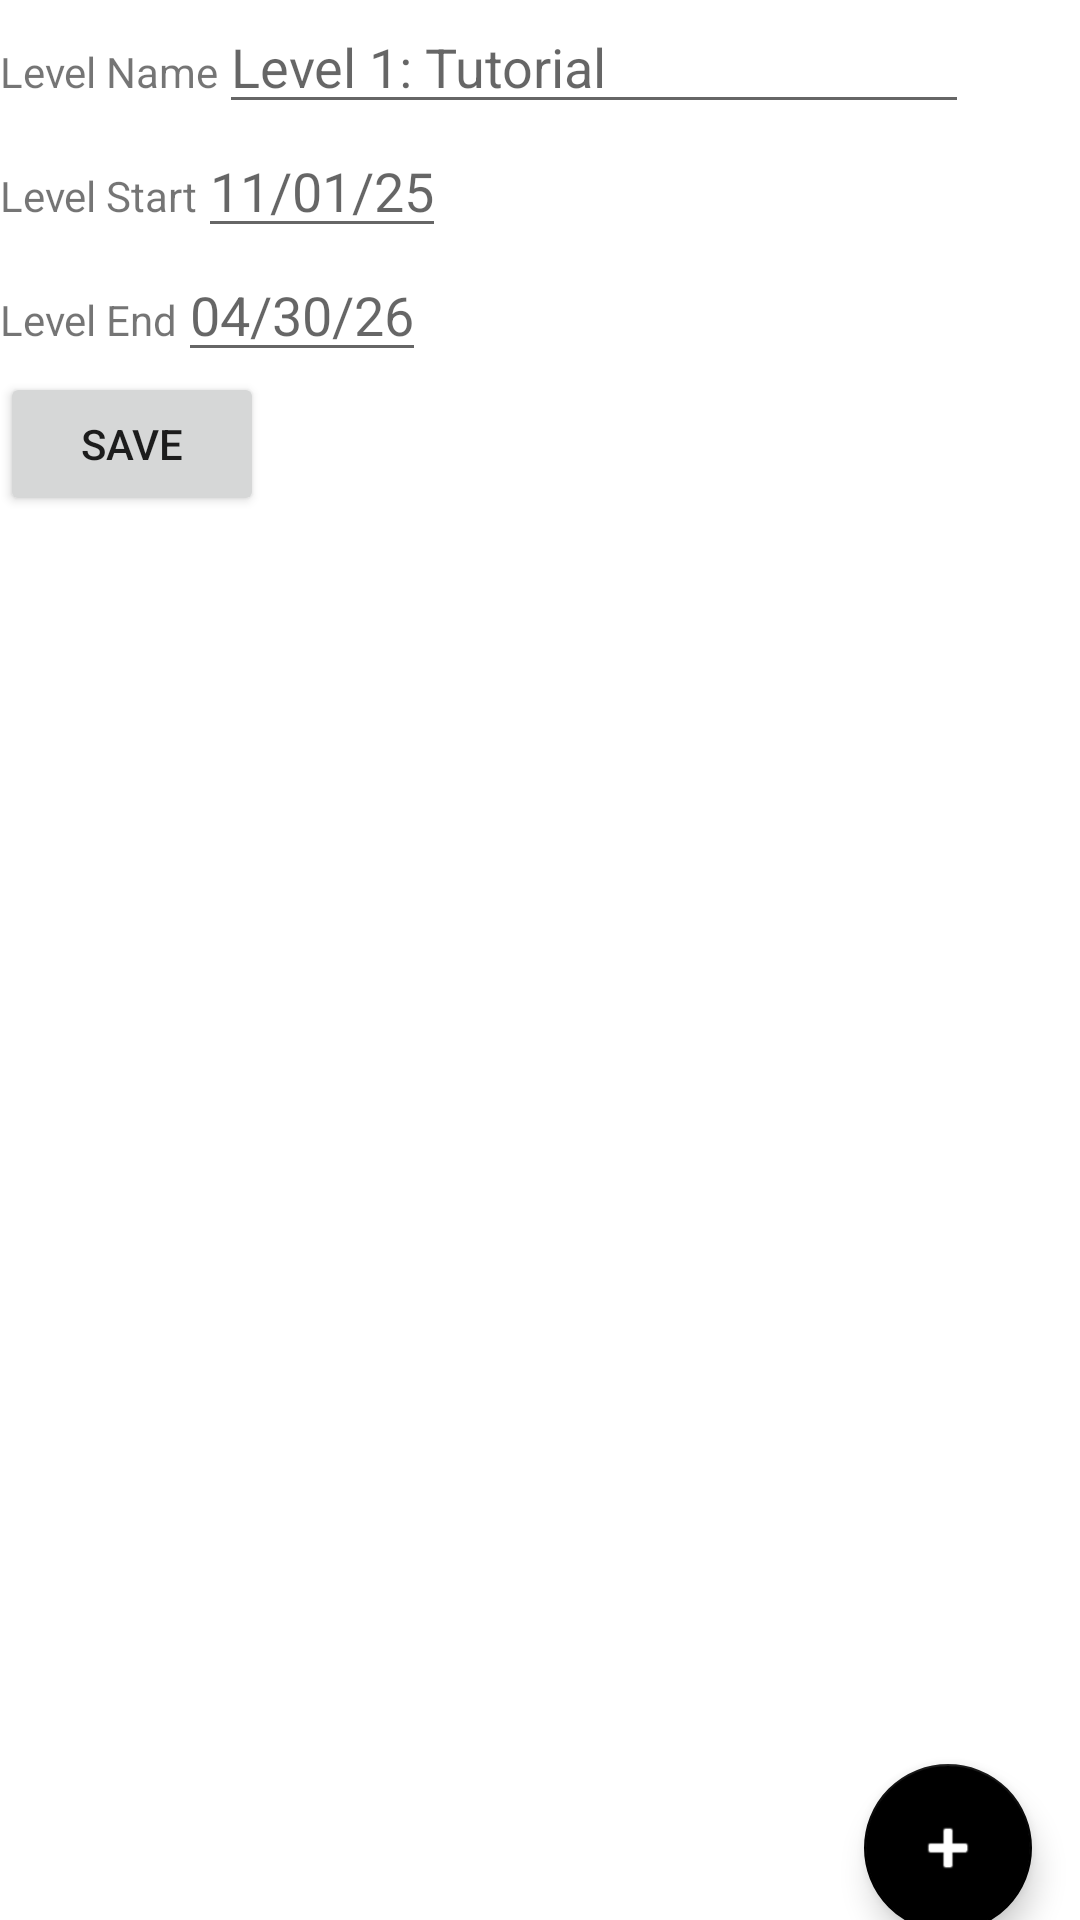

Locate icon controls on the screen. Image size 1080 × 1920, boxes as bbox(x1, y1, x2, y2).
add: bbox(864, 1764, 1032, 1920)
